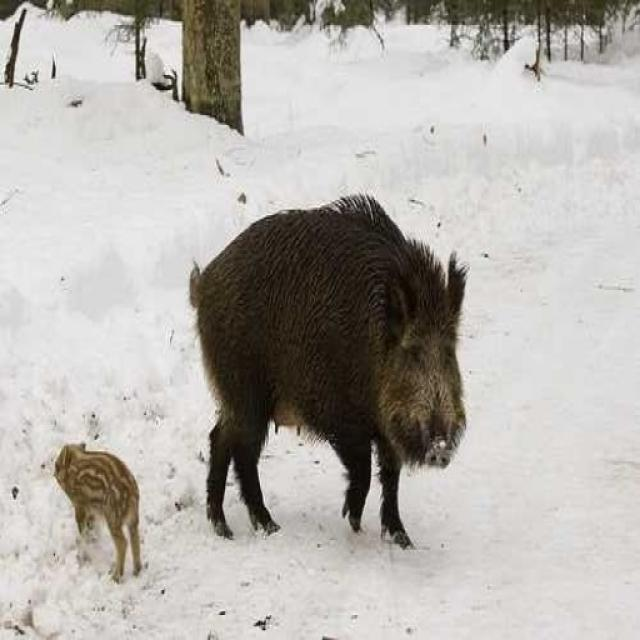pig: (113, 190, 494, 548)
